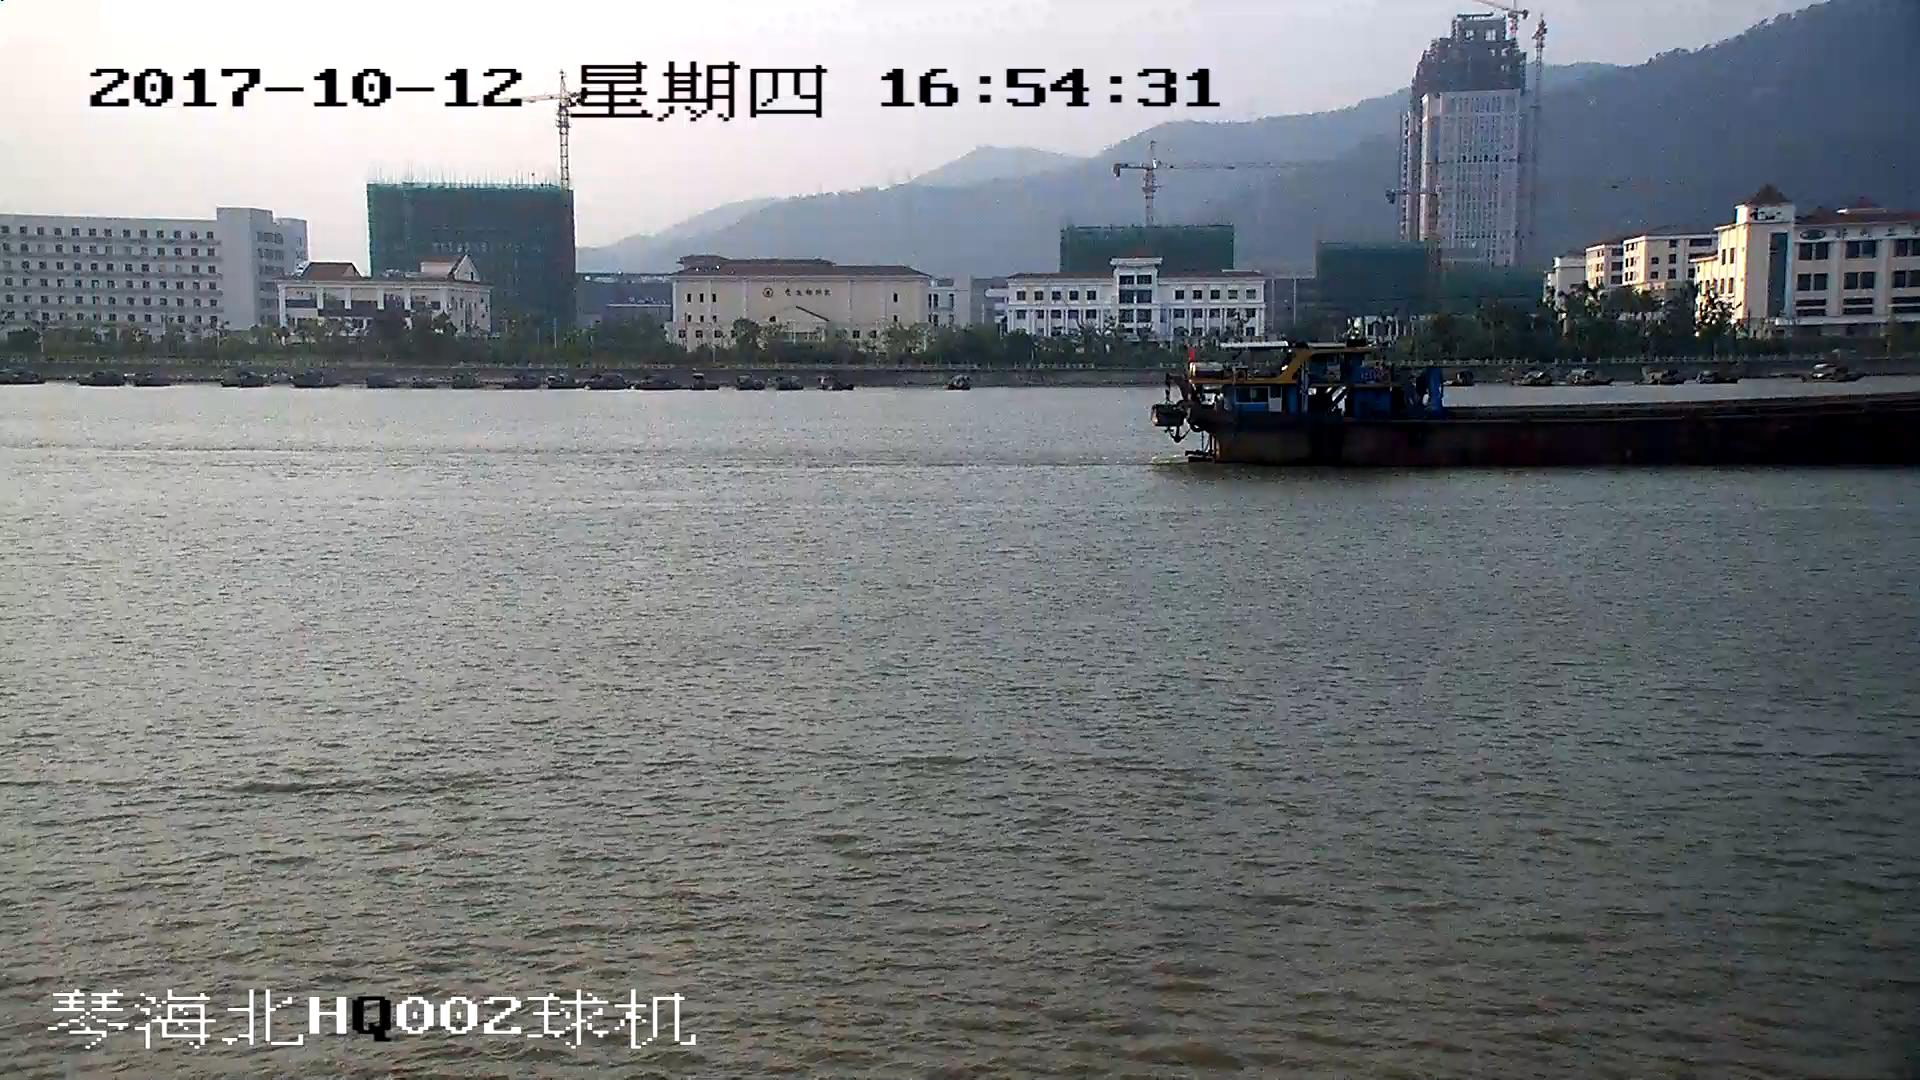bulk cargo carrier: (1154, 340, 1920, 460)
